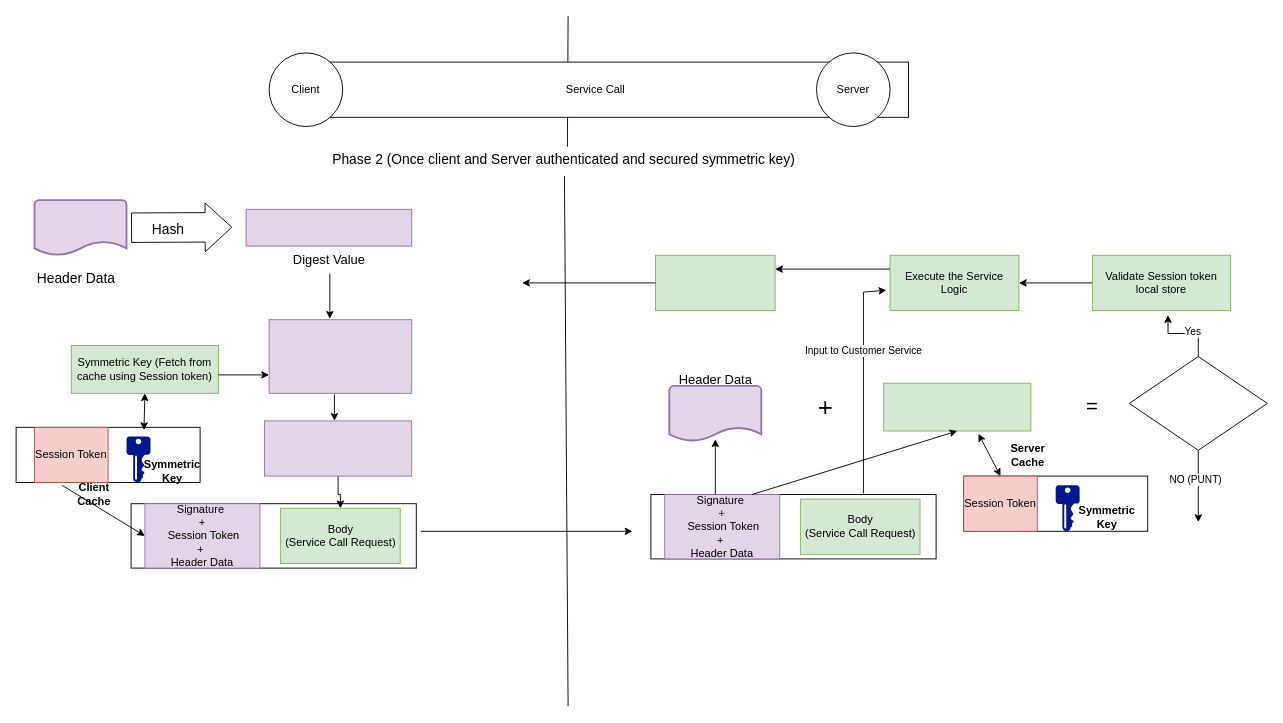
Image size: 1283x723. Some labels were removed from this diagram. Here are the shapes that lost their labels. From the top down, the centre of each, then its label:
the point at 328,227: jl957D9ajY2oX4tYsohU
the point at 715,282: Body (Service Response)
the point at 340,356: Encrypt Digest value with Symmetric key
the point at 957,406: Symmetric Key (Search Server Cache using Session Token )
the point at 1197,403: Generated Signature same as Passed
the point at 338,448: Signature
